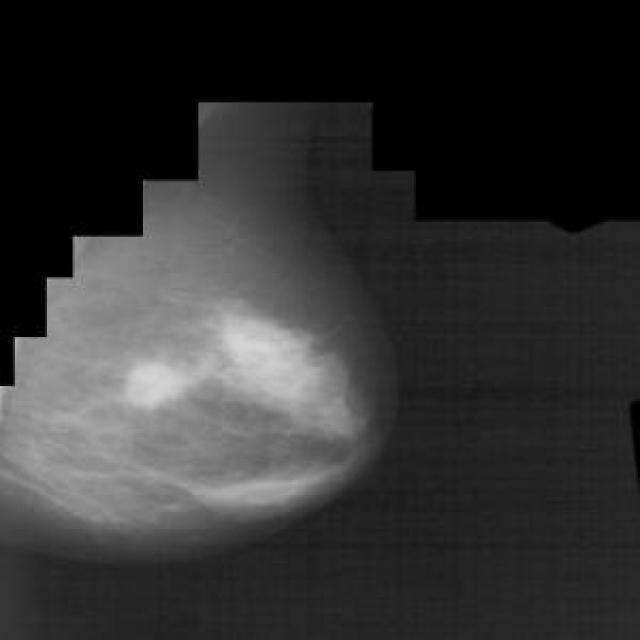tumor: (212, 307, 366, 518), (124, 326, 200, 426)
